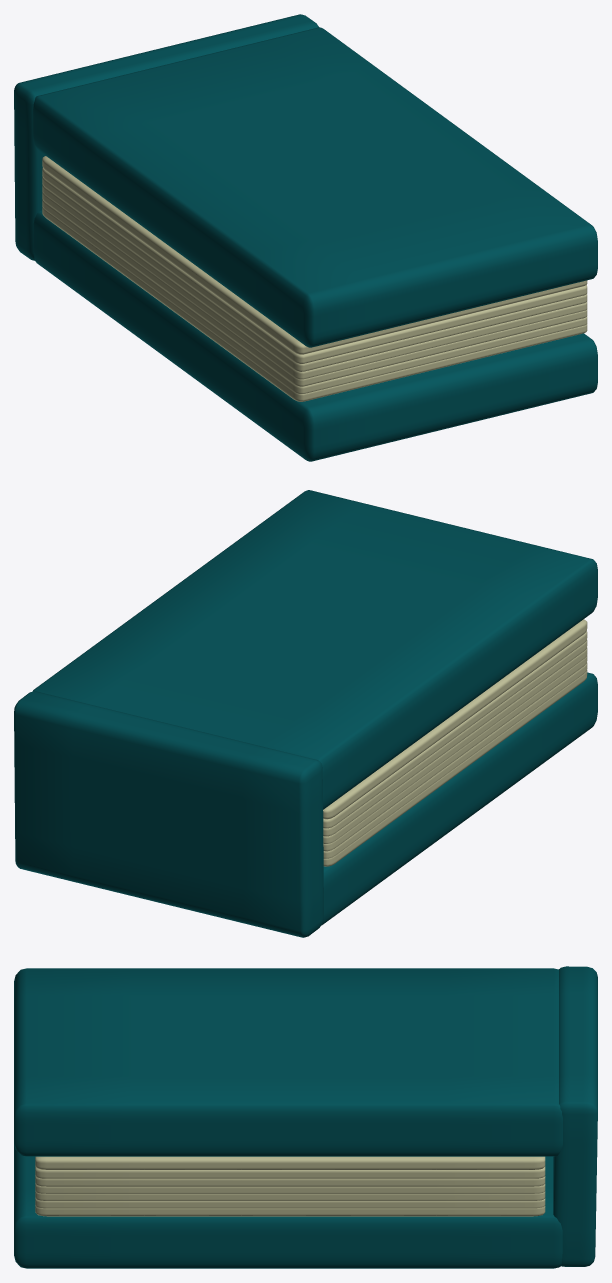
File: book7.FBX
3 renders of one model, top to bottom at view 1: azimuth 30°, elevation 25°; view 2: azimuth 150°, elevation 25°; view 3: azimuth 270°, elevation 25°, orthographic. The views are drawn at different scales.
Visible parts, largest first — view 1: ChamferBox003, ChamferBox002, ChamferBox001, ChamferBox010, ChamferBox008, ChamferBox009, ChamferBox004, ChamferBox006, ChamferBox005, ChamferBox007; view 2: ChamferBox003, ChamferBox001, ChamferBox002, ChamferBox010, ChamferBox008, ChamferBox009, ChamferBox004, ChamferBox006, ChamferBox005, ChamferBox007; view 3: ChamferBox003, ChamferBox002, ChamferBox001, ChamferBox010, ChamferBox008, ChamferBox009, ChamferBox004, ChamferBox005, ChamferBox006, ChamferBox007.
Part boxes in pixels (box(x1,y1,x2,y2)): ChamferBox003: box(33, 27, 597, 347); ChamferBox002: box(33, 210, 597, 461); ChamferBox001: box(14, 14, 318, 260); ChamferBox010: box(42, 156, 587, 354); ChamferBox008: box(42, 168, 587, 363); ChamferBox009: box(42, 176, 587, 371); ChamferBox004: box(42, 207, 587, 401); ChamferBox006: box(42, 184, 587, 379); ChamferBox005: box(42, 199, 587, 393); ChamferBox007: box(42, 192, 587, 386); ChamferBox003: box(32, 490, 597, 809); ChamferBox001: box(14, 691, 323, 937); ChamferBox002: box(321, 672, 597, 925); ChamferBox010: box(323, 619, 587, 819); ChamferBox008: box(323, 631, 587, 828); ChamferBox009: box(323, 640, 587, 836); ChamferBox004: box(323, 669, 587, 866); ChamferBox006: box(323, 647, 587, 843); ChamferBox005: box(323, 662, 587, 858); ChamferBox007: box(323, 654, 587, 851); ChamferBox003: box(14, 968, 562, 1156); ChamferBox002: box(14, 1144, 562, 1268); ChamferBox001: box(553, 966, 597, 1266); ChamferBox010: box(35, 1156, 545, 1169); ChamferBox008: box(35, 1166, 545, 1178); ChamferBox009: box(35, 1176, 545, 1186); ChamferBox004: box(35, 1206, 545, 1216); ChamferBox005: box(35, 1198, 545, 1208); ChamferBox006: box(35, 1184, 545, 1193); ChamferBox007: box(35, 1191, 545, 1200).
Size of the model in its own units: 8.49 by 4.68 by 14.9.
